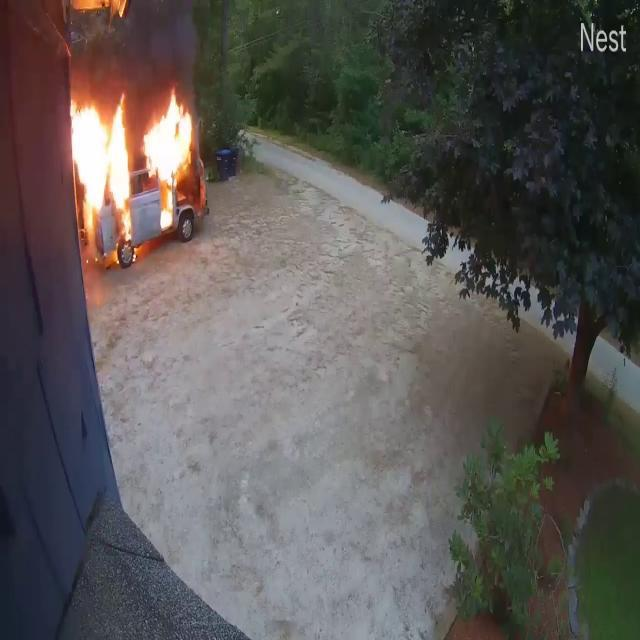Fire: (68, 91, 134, 245), (142, 85, 196, 226)
